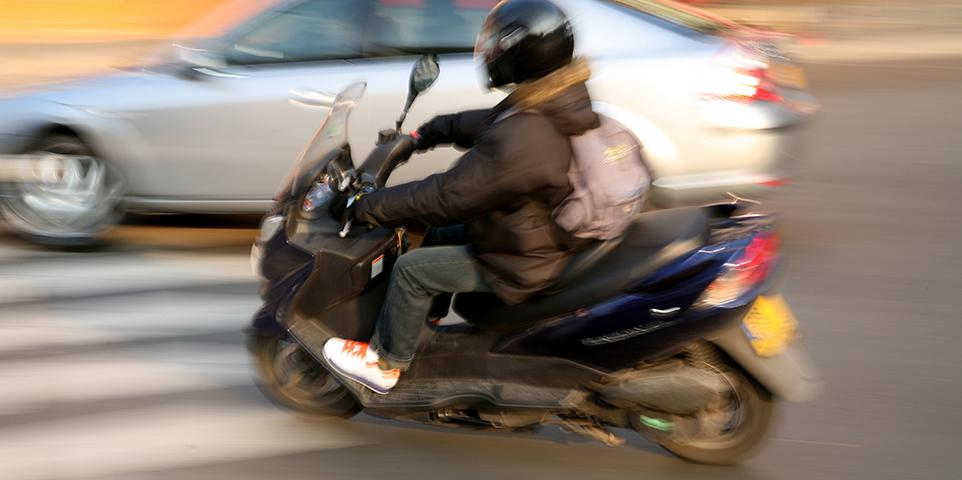helmet: (463, 0, 607, 96)
